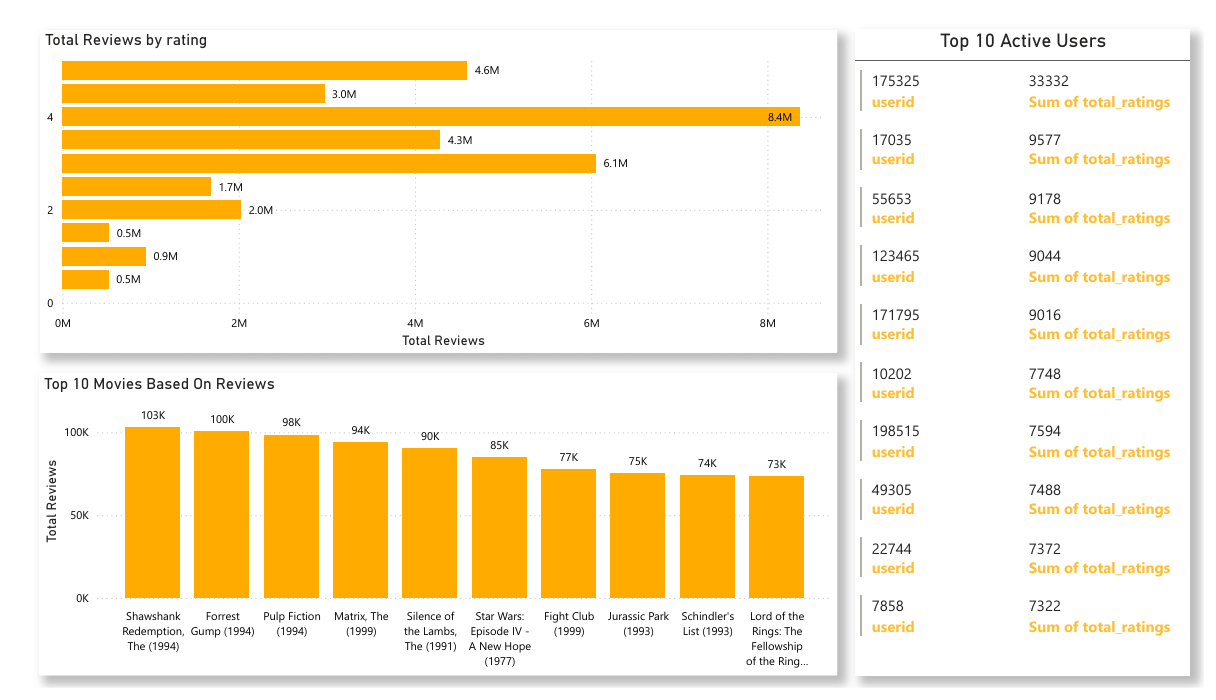

This screenshot's page, from the dashboard's own definition file:
{"tool":"powerbi","page":{"name":"Page 2","canvas":[1280,720],"ordinal":1},"visuals":[{"type":"clusteredBarChart","fields":{"Category":["public v_d2_rating_distribution.rating"],"Y":["Sum(public v_d2_rating_distribution.total_reviews)"]},"box":[28.7,13.5,856.9,346.5],"z":0},{"type":"multiRowCard","title":"Top 10 Active Users  ","fields":{"Values":["public v_d2_top_power_users.userid","Sum(public v_d2_top_power_users.total_ratings)"]},"box":[906.1,13.3,359.5,694.1],"z":1000},{"type":"clusteredColumnChart","title":"Top 10 Movies Based On Reviews","fields":{"Y":["Sum(public v_d2_top_reviewed_movies.reviews_count)"],"Category":["public v_d2_top_reviewed_movies.title"]},"box":[28.2,382.6,858.1,324.7],"z":2000}]}

Visuals, with their boxes in screenshot pixels (x1, y1, x2, y2), scaled from the page's 1280x720 canvas onto the 1216x700 screenshot:
clusteredBarChart - public v_d2_rating_distribution.rating x Sum(public v_d2_rating_distribution.total_reviews): <region>27, 13, 841, 350</region>
"Top 10 Active Users  " multiRowCard: <region>861, 13, 1202, 688</region>
"Top 10 Movies Based On Reviews" clusteredColumnChart: <region>27, 372, 842, 688</region>
